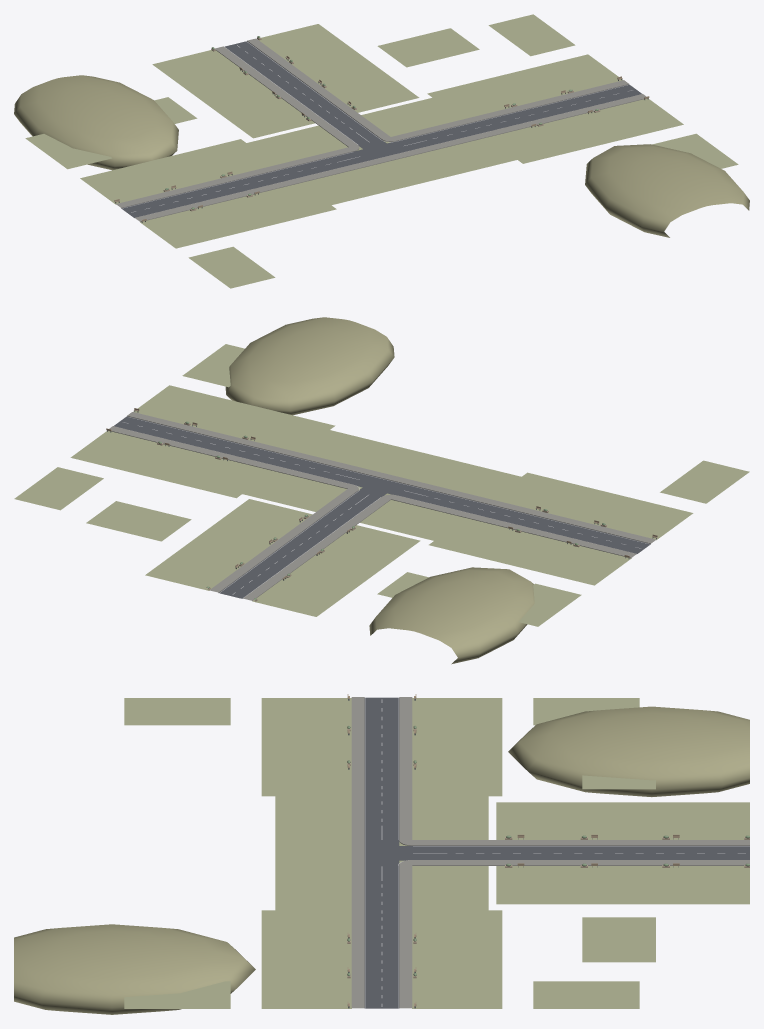
The picture shows the model from 3 angles, top to bottom: view 1: azimuth 30°, elevation 25°; view 2: azimuth 150°, elevation 25°; view 3: azimuth 270°, elevation 25°; orthographic projection. The views are drawn at different scales.
Visible parts, largest first — view 1: static; view 2: static; view 3: static.
Part boxes in pixels (box(x1,y1,x2,y2)): static: box(14, 14, 749, 288); static: box(14, 317, 749, 664); static: box(14, 694, 749, 1014).
Size of what is drawn, in the model's own units: 180 by 14.08 by 180.
